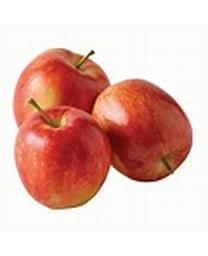apple: (91, 80, 193, 183), (13, 102, 111, 209), (11, 47, 109, 127)
